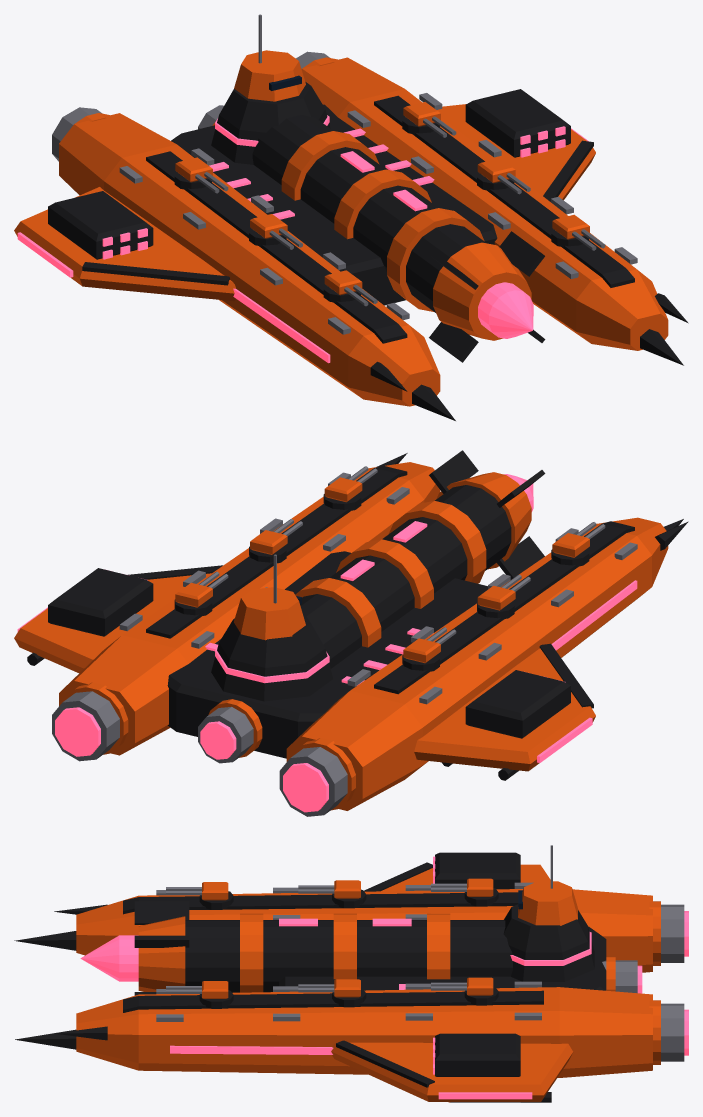
Rendered from boss_cruiser.glb.
3 views of the same model, one above another, from view 1: azimuth 30°, elevation 25°; view 2: azimuth 150°, elevation 25°; view 3: azimuth 270°, elevation 25° (orthographic). The views are drawn at different scales.
Visible parts, largest first — view 1: boss_cruiser; view 2: boss_cruiser; view 3: boss_cruiser.
Part boxes in pixels (x1,y1,x2,y2): boss_cruiser: (14,14,688,420); boss_cruiser: (14,450,688,816); boss_cruiser: (14,845,688,1102).
Bounding box in the file's own units: 1.99 × 0.6856 × 2.5.
